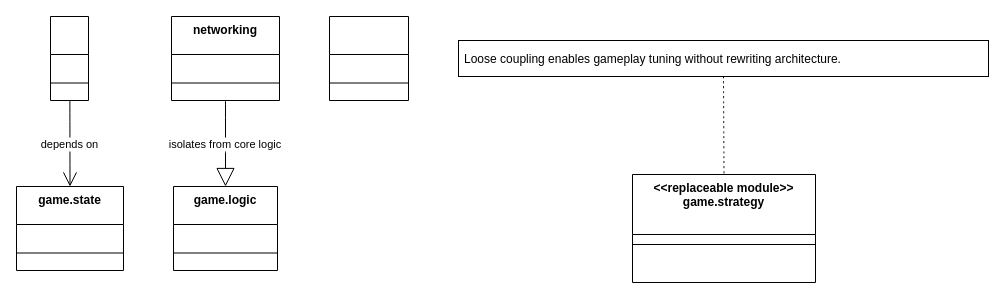
Image size: 1005x299. Some labels were removed from this diagram. The box of each missing label's shape, as (x1, y1, x2, y2) in pixels:
sensors: (328, 16, 408, 100)
ui: (50, 16, 88, 100)
